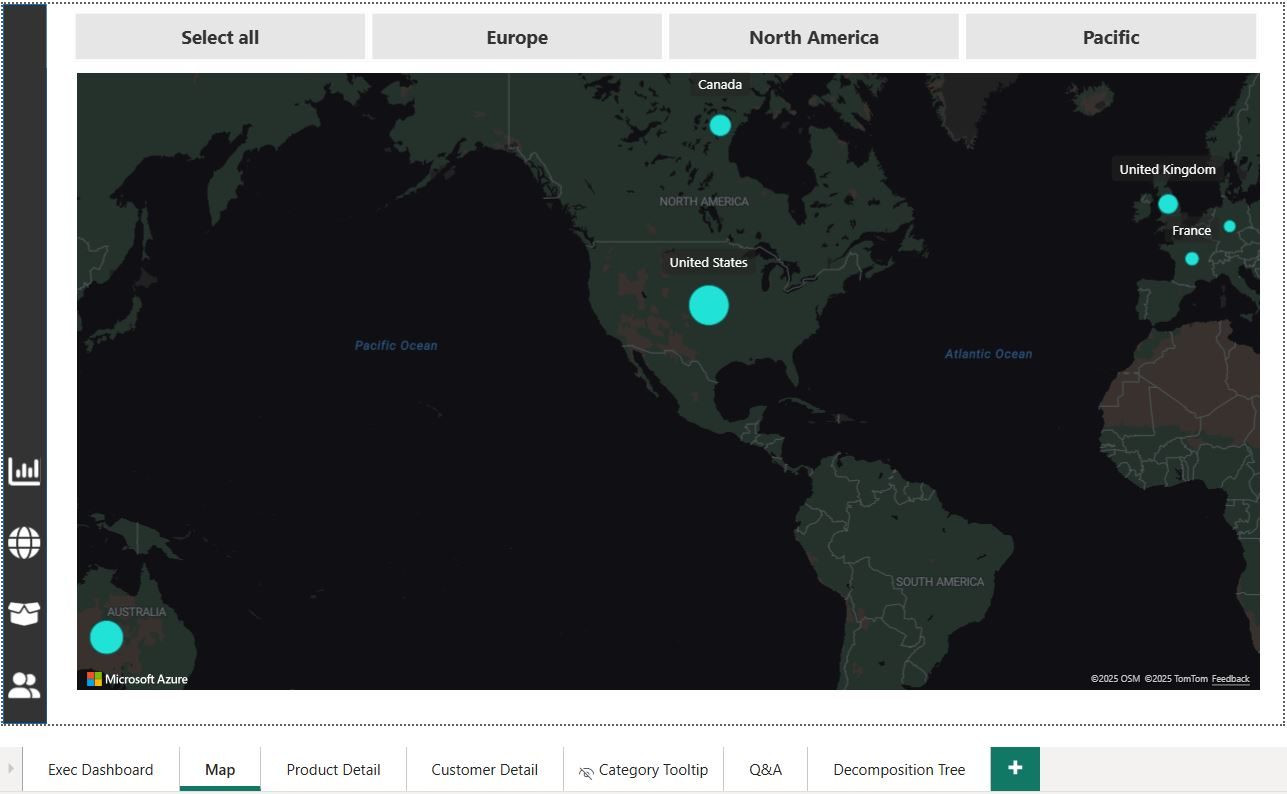

This screenshot's page, from the dashboard's own definition file:
{"tool":"powerbi","page":{"name":"Map","canvas":[1280,720],"ordinal":1},"visuals":[{"type":"shape","box":[0,0,44.3,720],"z":0},{"type":"actionButton","box":[1,590,44.3,40],"z":0,"group":"g1"},{"type":"azureMap","fields":{"Category":["Territory Lookup.Country"],"Size":["Mesure Table.Total Orders"]},"box":[68.6,64.3,1192.9,627.1],"z":1000},{"type":"actionButton","box":[1,447.1,48.9,40],"z":1000,"group":"g1"},{"type":"slicer","fields":{"Values":["Territory Lookup.Continent"]},"box":[44.3,0,1235.7,64.3],"z":2000},{"type":"actionButton","box":[1,661.4,44.3,40],"z":2000,"group":"g1"},{"type":"group","id":"g1","title":"Navigation Buttons","box":[1,447.1,48.9,254.3],"z":3000},{"type":"actionButton","box":[1,518.5,44.3,40],"z":3000,"group":"g1"}]}

Visuals, with their boxes on the page's 1280x720 design canvas (x1, y1, x2, y2). These are canvas units, not pixel positions in the 1287x794 screenshot, which may show the page scaled, cropped or inside an application window:
shape: select_region(0, 0, 44, 720)
actionButton: select_region(1, 590, 45, 630)
azureMap - Territory Lookup.Country x Mesure Table.Total Orders: select_region(69, 64, 1262, 691)
actionButton: select_region(1, 447, 50, 487)
slicer - Territory Lookup.Continent: select_region(44, 0, 1280, 64)
actionButton: select_region(1, 661, 45, 701)
"Navigation Buttons" group: select_region(1, 447, 50, 701)
actionButton: select_region(1, 518, 45, 558)
